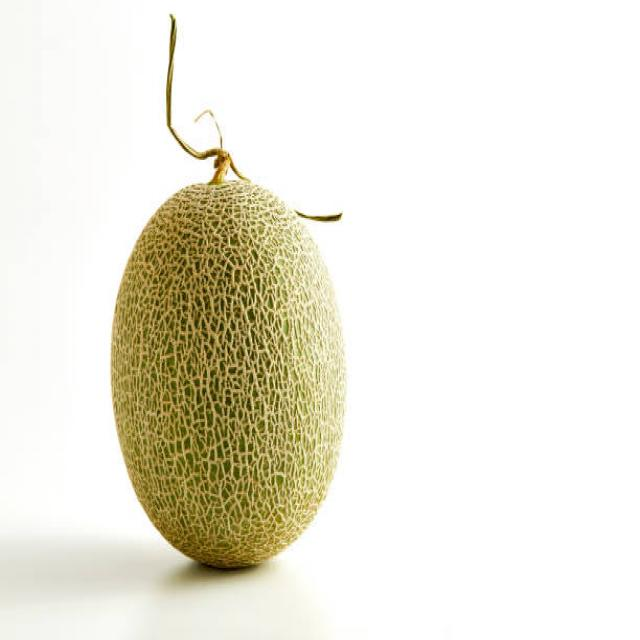Melon: (107, 174, 346, 576)
